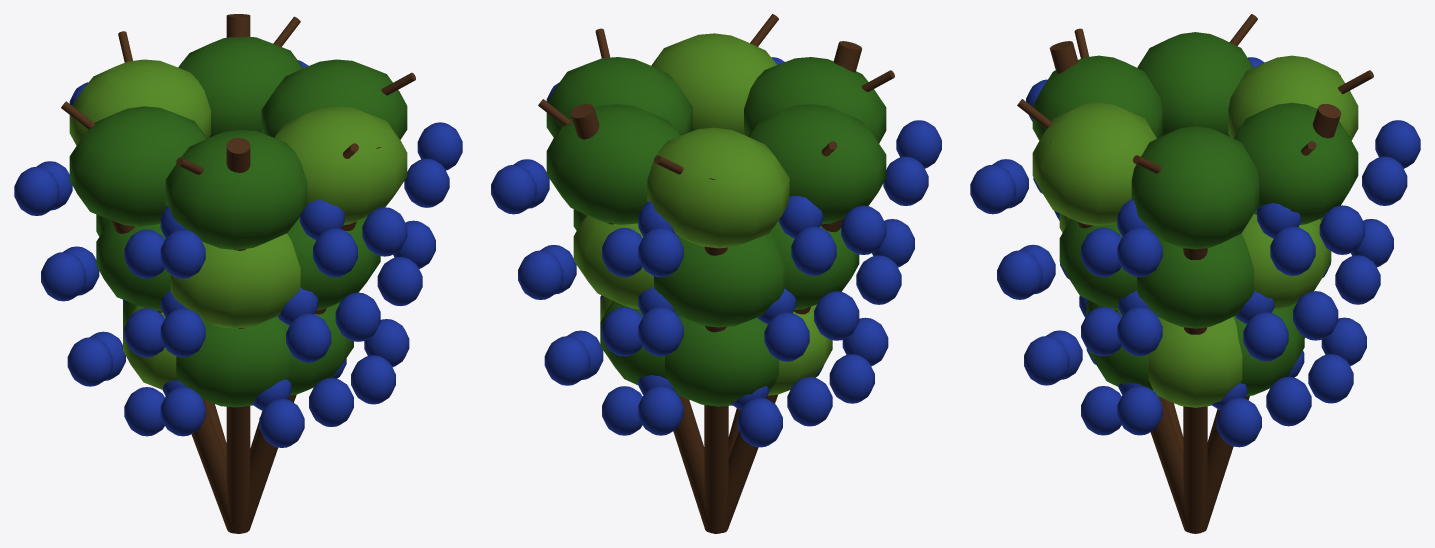
Rendered from Afonyabokor.obj.
The picture shows the model from 3 angles, left to right: view 1: azimuth 30°, elevation 25°; view 2: azimuth 150°, elevation 25°; view 3: azimuth 270°, elevation 25°; orthographic projection.
Bounding box in the file's own units: 0.9268 × 1.03 × 0.9299.
